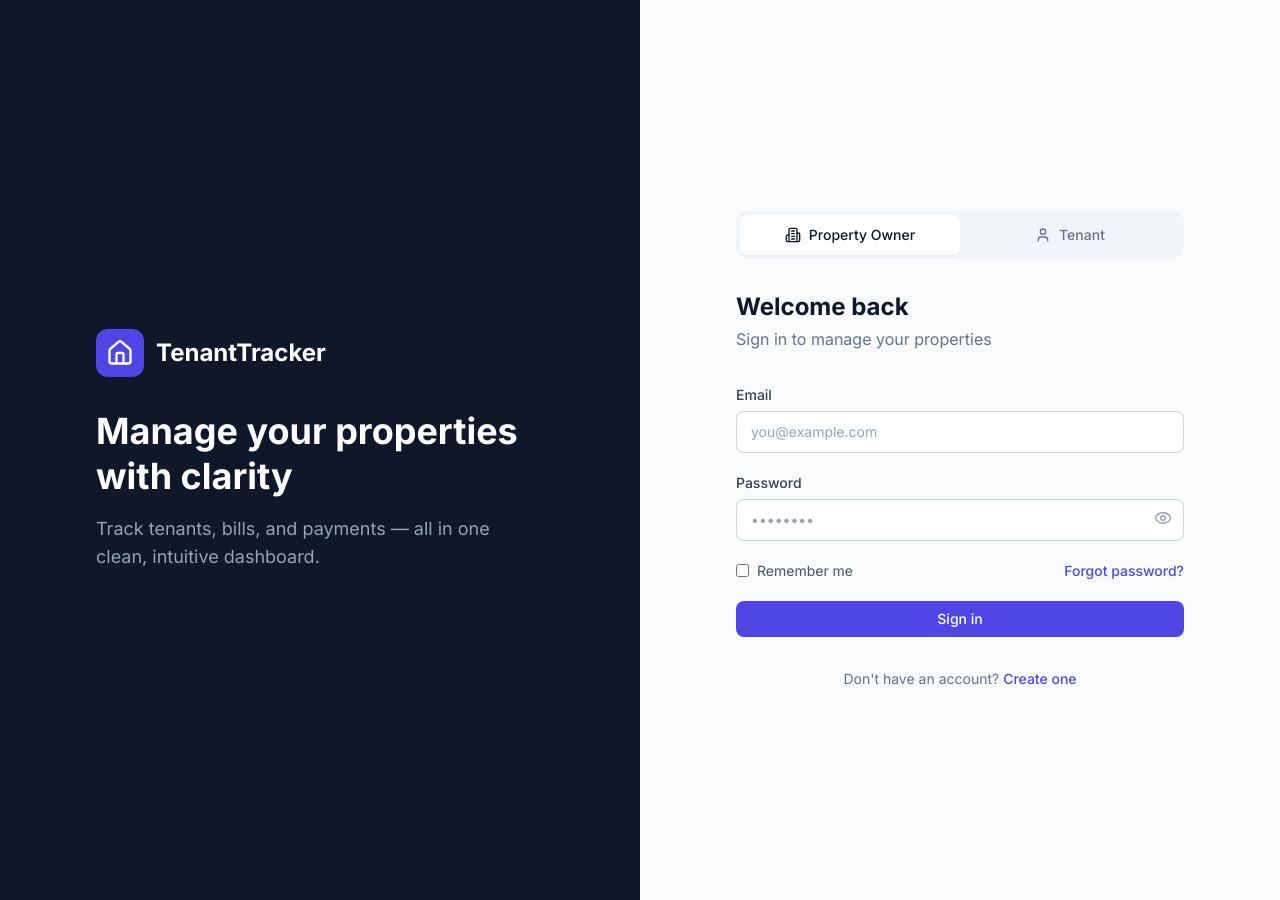
Test: LoginPage — role tabs › clears errors when switching tabs
# Trigger validation errors
Click the button "Sign in".
click(960, 619)  # box [736,601,1184,637]
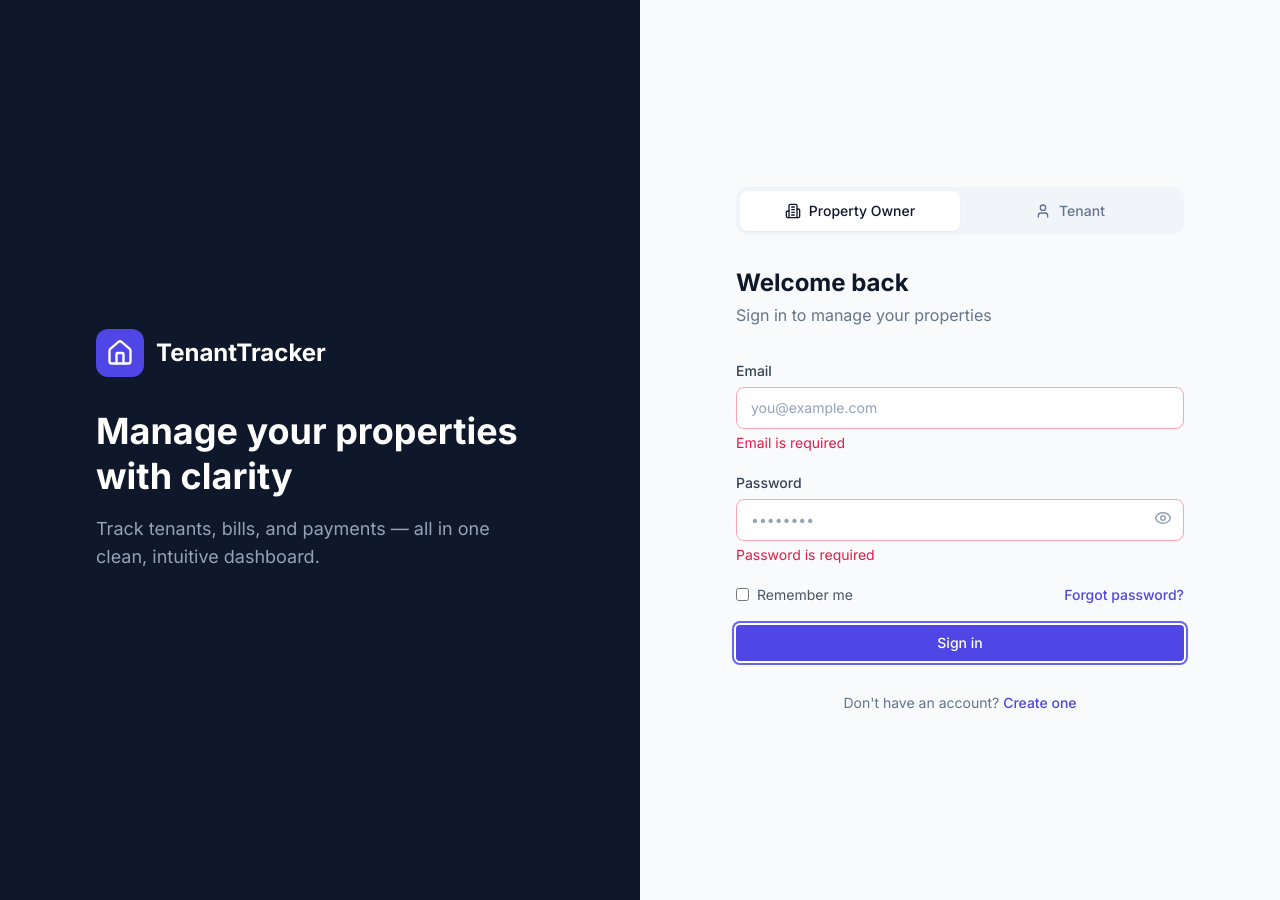
Result: the text "Email is required" is shown at [736,434,845,451]
# Switch tab — errors should clear
Click the tab "Tenant".
click(1070, 211)  # box [960,191,1180,231]
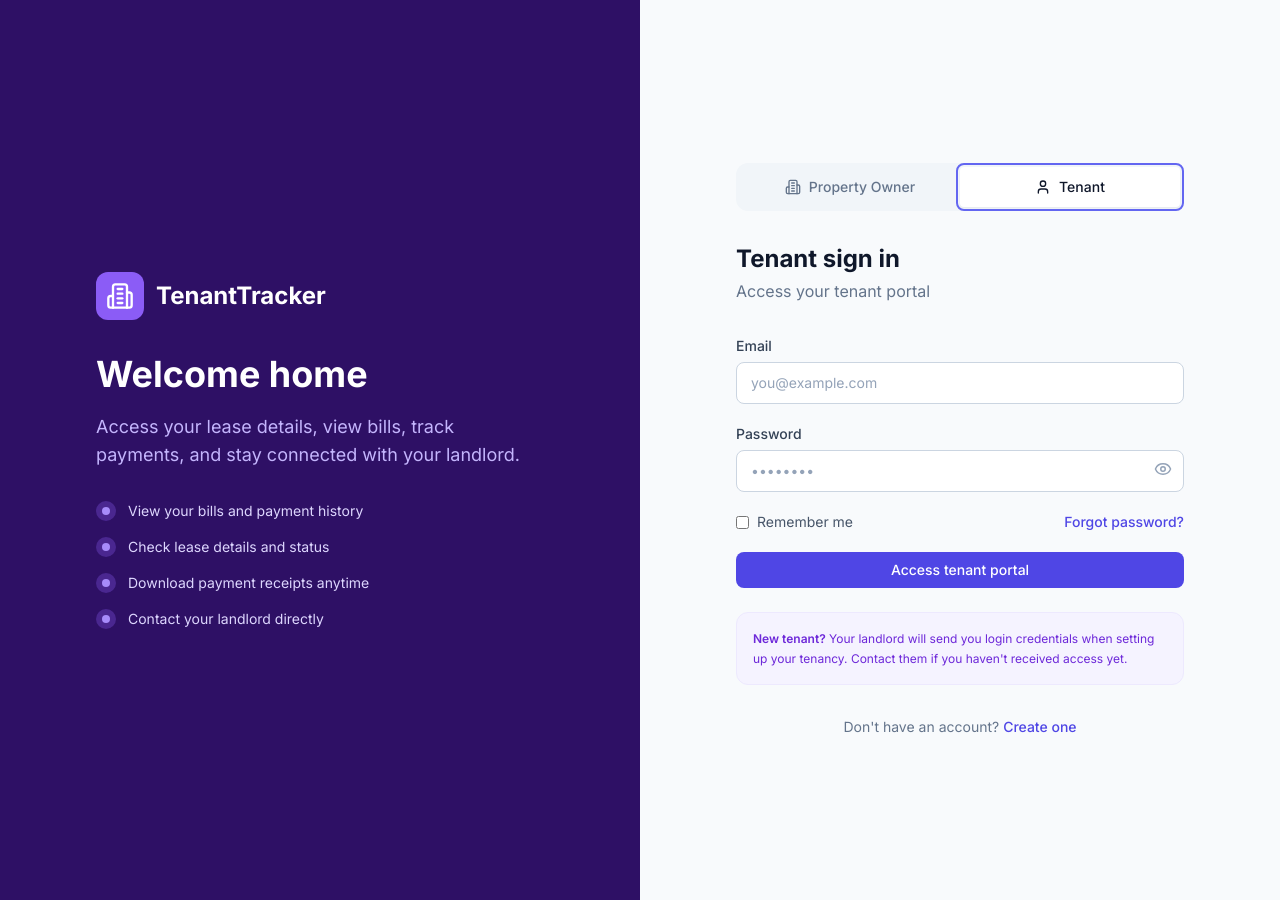
Result: the text "Email is required" is gone
